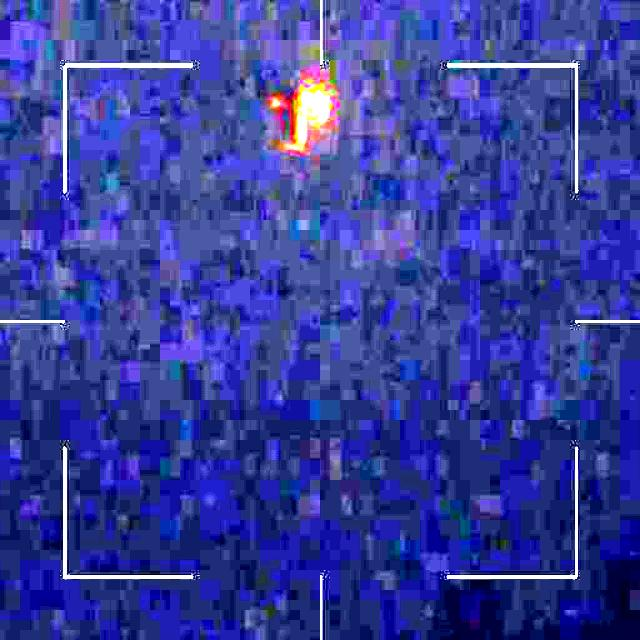bird: (251, 75, 330, 149)
